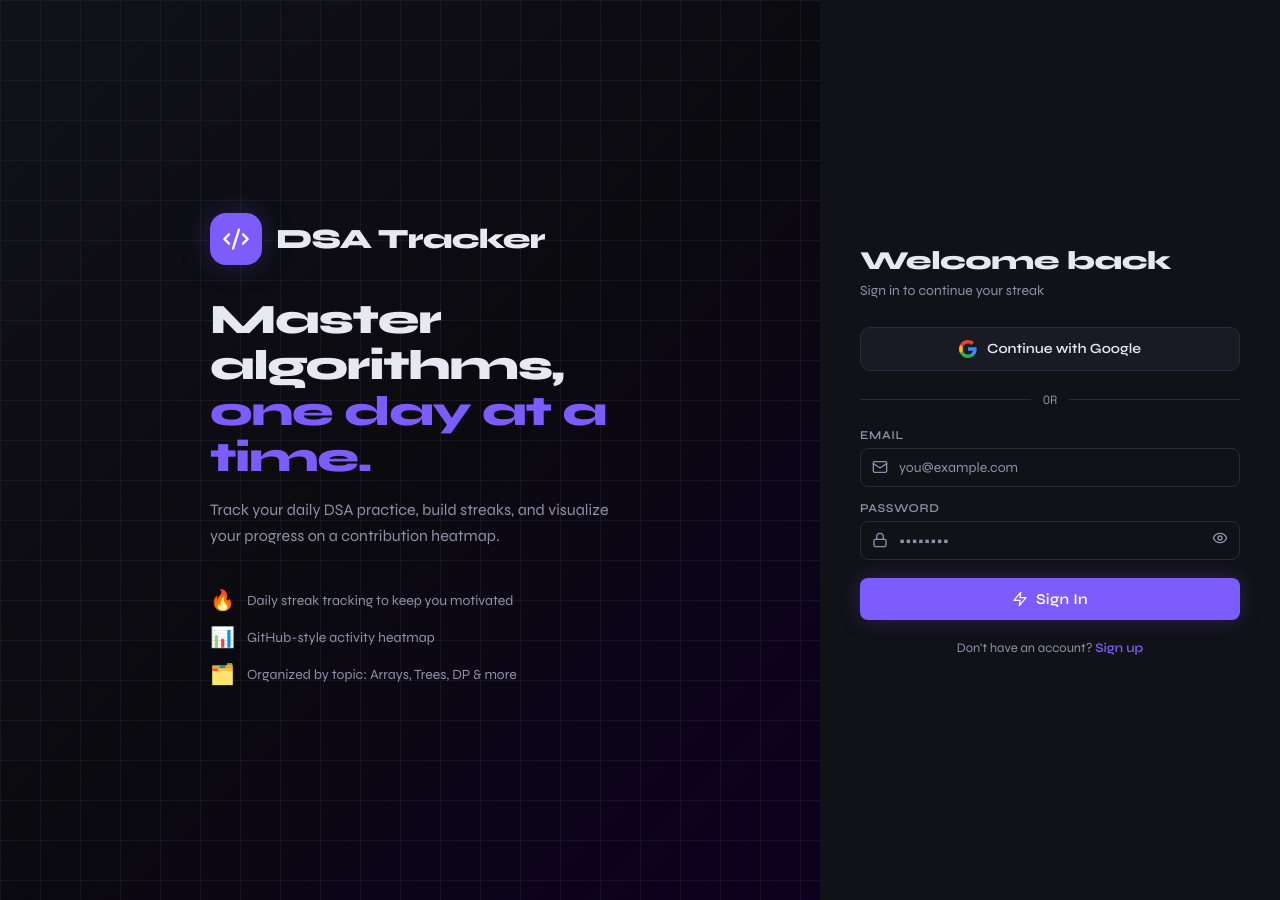
LoginPage › shows Google sign-in error
What coordinates should you click on to do the following:
click the button "Continue with Google"
I would click on:
 (1050, 348)
Its box is left=860, top=326, right=1240, bottom=370.
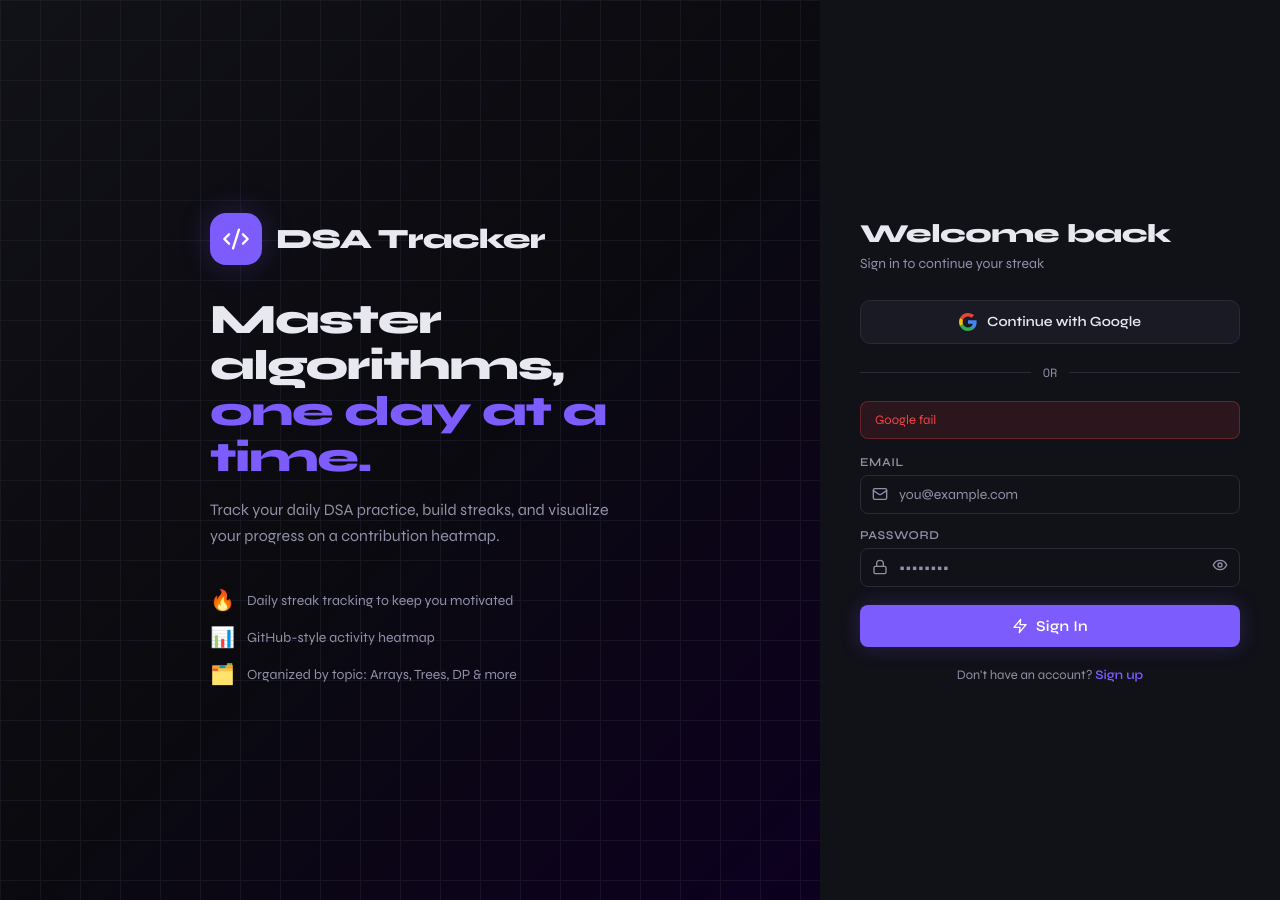
Expected: the text "Google fail" is shown, left=860, top=400, right=1240, bottom=438
